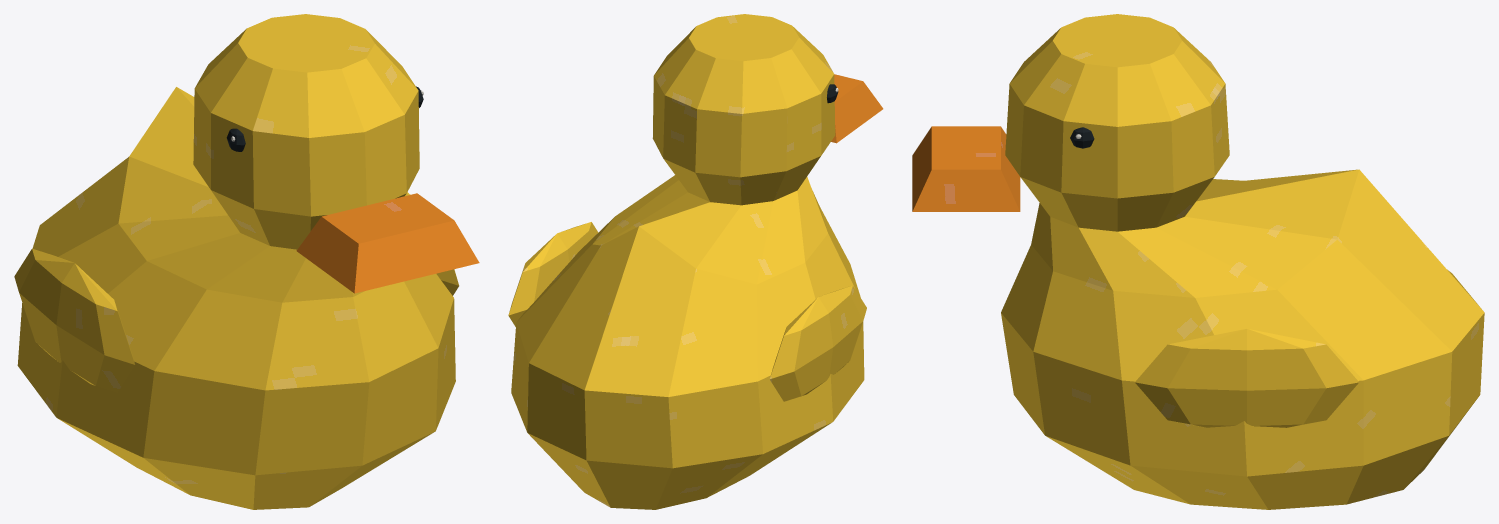
File: rubber_duck.glb
3 views of the same model, side by side, from view 1: azimuth 30°, elevation 25°; view 2: azimuth 150°, elevation 25°; view 3: azimuth 270°, elevation 25° (orthographic). The views are drawn at different scales.
Visible parts, largest first — view 1: core_rubber_duck; view 2: core_rubber_duck; view 3: core_rubber_duck.
Part boxes in pixels (<box>): core_rubber_duck: <box>14,14,479,509</box>; core_rubber_duck: <box>508,14,883,509</box>; core_rubber_duck: <box>912,14,1484,509</box>.
Size of the model in its own units: 0.098 by 0.12 by 0.145.
4 materials, 4 textured.
